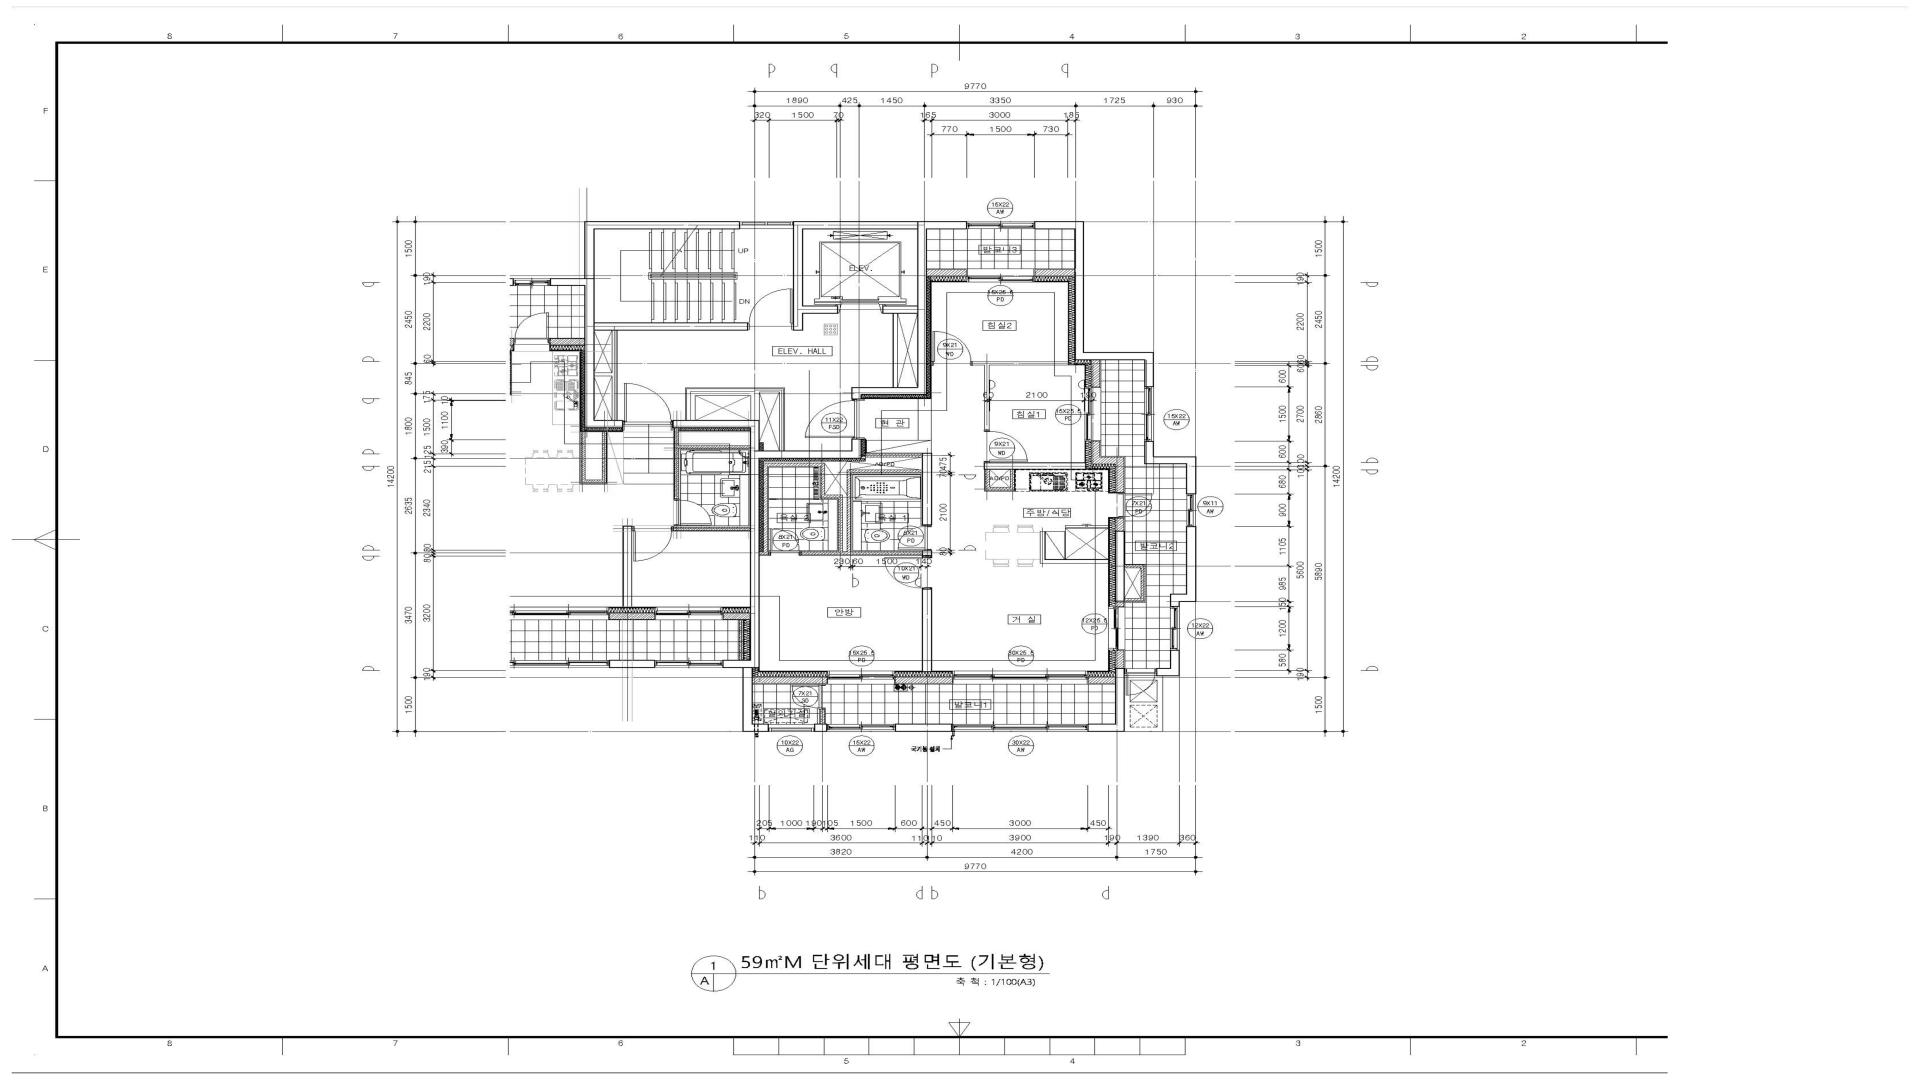door: (804, 398, 860, 439), (622, 382, 673, 426), (748, 289, 794, 330), (884, 555, 932, 589), (984, 430, 1029, 463), (931, 331, 972, 365), (769, 529, 802, 556), (1118, 493, 1153, 518)
wall: (750, 429, 760, 669), (584, 222, 595, 421), (918, 229, 927, 396), (595, 322, 748, 331), (793, 222, 803, 331), (595, 222, 740, 229), (1075, 229, 1084, 352), (760, 450, 861, 459), (803, 222, 918, 229), (922, 589, 932, 671), (673, 419, 760, 429), (852, 388, 918, 400), (922, 452, 932, 525), (1185, 526, 1196, 593), (695, 388, 785, 396), (984, 463, 1087, 469), (742, 661, 753, 724), (1116, 531, 1125, 603), (1075, 352, 1154, 360), (1116, 669, 1125, 724), (753, 676, 827, 683), (800, 551, 922, 555), (612, 331, 617, 421), (895, 724, 952, 732), (847, 469, 852, 551), (984, 365, 990, 430), (1145, 456, 1196, 464), (893, 314, 898, 388), (1035, 222, 1084, 229), (918, 222, 967, 229), (973, 361, 1068, 365), (895, 676, 952, 683), (764, 467, 767, 551), (1185, 464, 1196, 495), (927, 269, 967, 277), (1035, 269, 1075, 277), (779, 392, 785, 451), (686, 388, 695, 421), (1088, 724, 1125, 732), (882, 306, 918, 314), (852, 469, 922, 473), (803, 306, 837, 314), (1040, 559, 1108, 563), (584, 421, 624, 427), (1091, 360, 1100, 388), (764, 463, 825, 467), (1145, 360, 1154, 386), (865, 454, 922, 458), (1116, 464, 1124, 492), (750, 396, 760, 419), (1091, 458, 1124, 464), (839, 498, 843, 551), (742, 724, 769, 732), (1170, 650, 1180, 669), (1156, 669, 1180, 676), (1088, 676, 1116, 683), (1116, 650, 1124, 669), (820, 467, 825, 495), (1040, 531, 1046, 559), (1141, 564, 1145, 599), (1179, 593, 1196, 601), (1145, 442, 1154, 456), (1092, 442, 1100, 458), (1116, 518, 1125, 531), (984, 469, 990, 488), (1170, 593, 1179, 607), (984, 487, 1014, 491), (814, 724, 827, 732), (852, 439, 861, 450), (820, 495, 843, 498), (820, 709, 825, 724), (1010, 469, 1014, 487), (595, 372, 612, 376), (1125, 564, 1141, 568), (1125, 599, 1146, 601), (922, 550, 932, 555), (760, 551, 769, 555), (1117, 603, 1124, 607)
window: (952, 671, 1088, 684), (952, 724, 1088, 732), (1084, 388, 1101, 440), (827, 671, 895, 684), (967, 269, 1034, 282), (1108, 607, 1125, 650), (967, 222, 1035, 229), (827, 724, 895, 732), (1145, 386, 1154, 442), (1170, 607, 1180, 650), (740, 222, 793, 229), (769, 724, 814, 732), (1187, 495, 1196, 526)
